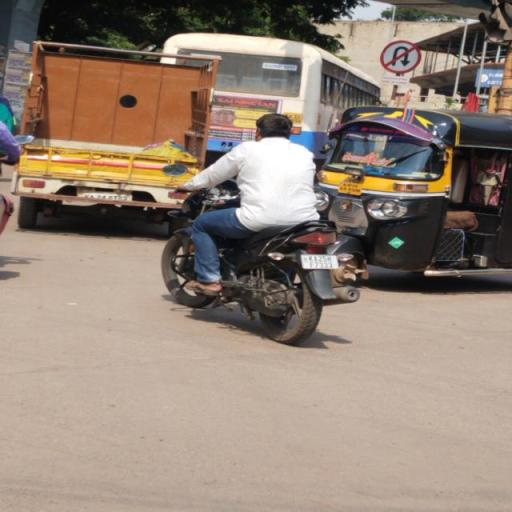bike: (156, 108, 350, 346)
numberplate: (302, 254, 340, 271)
withouthelmet: (256, 113, 294, 138)
